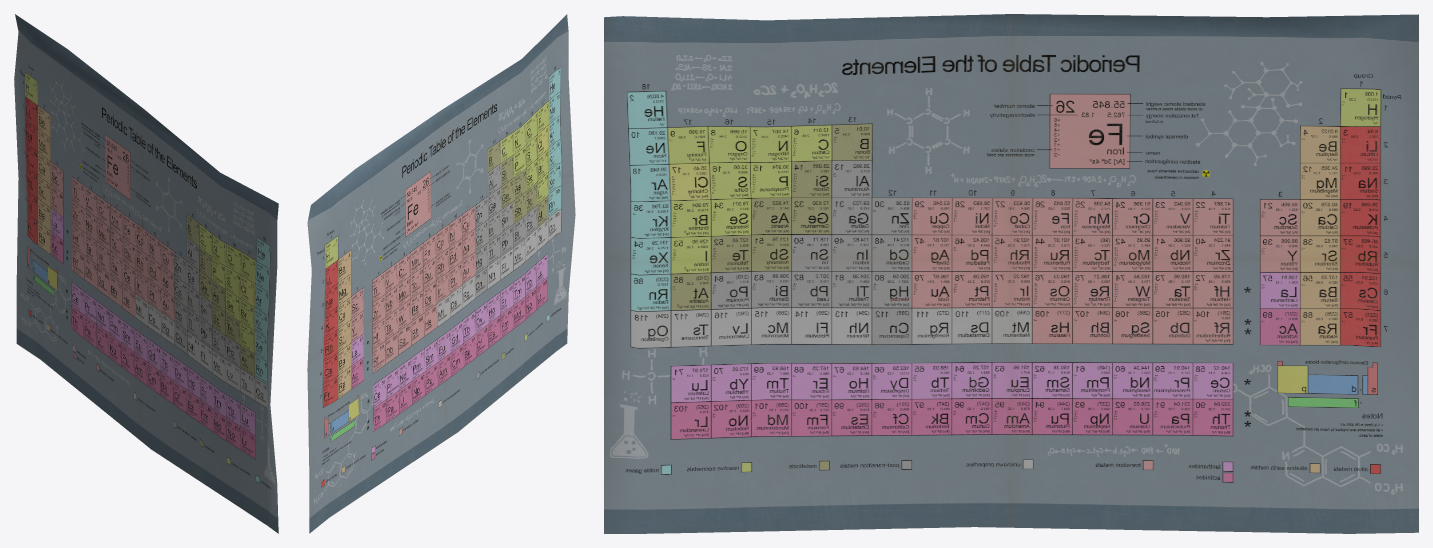
The model's file is SM_Wall_Periodic_Table_Poster_01a.fbx.
The picture shows the model from 3 angles, left to right: view 1: azimuth 30°, elevation 25°; view 2: azimuth 150°, elevation 25°; view 3: azimuth 270°, elevation 25°; orthographic projection. The views are drawn at different scales.
Parts seen in each view (by area): view 1: SM_Wall_Periodic_Table_Poster_01a_LOD0; view 2: SM_Wall_Periodic_Table_Poster_01a_LOD0; view 3: SM_Wall_Periodic_Table_Poster_01a_LOD0.
Boxes of the visible parts, x1,y1,x2,y2 form: SM_Wall_Periodic_Table_Poster_01a_LOD0: (14, 14, 278, 533); SM_Wall_Periodic_Table_Poster_01a_LOD0: (307, 14, 575, 533); SM_Wall_Periodic_Table_Poster_01a_LOD0: (604, 14, 1418, 533).
Bounding box in the file's own units: 2.04 × 100 × 70.
1 material, 1 textured.
